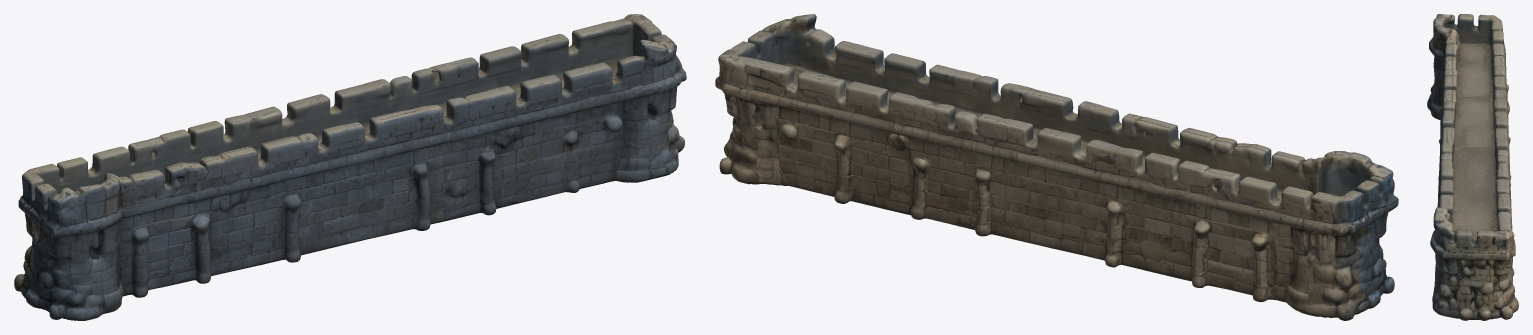
File: city-wall-segment.glb
3 views of the same model, side by side, from view 1: azimuth 30°, elevation 25°; view 2: azimuth 150°, elevation 25°; view 3: azimuth 270°, elevation 25° (orthographic). The views are drawn at different scales.
Parts seen in each view (by area): view 1: tripo_node_9535f594-7041-4a55-af62-4ab0fcca71fc; view 2: tripo_node_9535f594-7041-4a55-af62-4ab0fcca71fc; view 3: tripo_node_9535f594-7041-4a55-af62-4ab0fcca71fc.
Part boxes in pixels (bbox=[...]): tripo_node_9535f594-7041-4a55-af62-4ab0fcca71fc: bbox=[14, 14, 686, 320]; tripo_node_9535f594-7041-4a55-af62-4ab0fcca71fc: bbox=[715, 14, 1398, 320]; tripo_node_9535f594-7041-4a55-af62-4ab0fcca71fc: bbox=[1427, 14, 1518, 320].
Bounding box in the file's own units: 30.23 × 6 × 5.15.
Materials: 1 (1 with a texture image).
